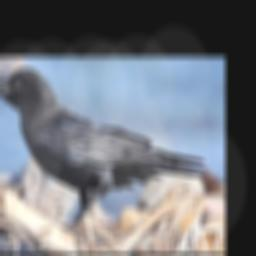Crow: (0, 67, 211, 232)
